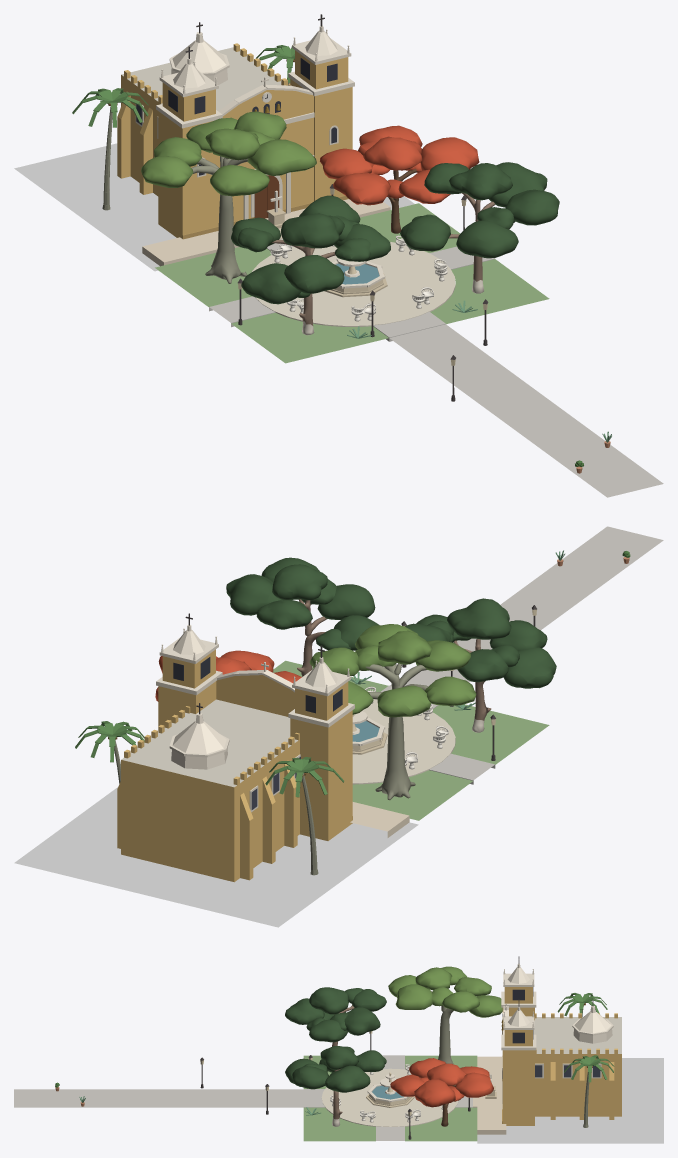
Rendered from barrio_plaza.glb.
3 renders of one model, top to bottom at view 1: azimuth 30°, elevation 25°; view 2: azimuth 150°, elevation 25°; view 3: azimuth 270°, elevation 25°, orthographic. The views are drawn at different scales.
Parts seen in each view (by area): view 1: plaza_fachadas, plaza_laurel_copa, plaza_banqueta, plaza_pasto, plaza_ceiba_copa, plaza_pasto_c, plaza_flamboyan_copa, plaza_pasta, plaza_cantera, plaza_palma_copa, plaza_herreria; view 2: plaza_fachadas, plaza_pasto_c, plaza_laurel_copa, plaza_banqueta, plaza_ceiba_copa, plaza_pasto, plaza_pasta, plaza_palma_copa, plaza_flamboyan_copa, plaza_cantera; view 3: plaza_fachadas, plaza_laurel_copa, plaza_pasto_c, plaza_banqueta, plaza_pasto, plaza_ceiba_copa, plaza_flamboyan_copa, plaza_pasta, plaza_cantera, plaza_palma_copa, plaza_herreria.
Part boxes in pixels (x1,y1,x2,y2): plaza_fachadas: (102, 25, 611, 473); plaza_laurel_copa: (231, 162, 559, 304); plaza_banqueta: (209, 239, 663, 497); plaza_pasto: (155, 203, 549, 363); plaza_ceiba_copa: (141, 111, 316, 196); plaza_pasto_c: (14, 143, 414, 271); plaza_flamboyan_copa: (320, 125, 479, 205); plaza_pasta: (252, 242, 455, 326); plaza_cantera: (142, 199, 390, 266); plaza_palma_copa: (72, 45, 294, 127); plaza_herreria: (185, 14, 488, 401); plaza_fachadas: (108, 550, 630, 882); plaza_pasto_c: (14, 787, 418, 927); plaza_laurel_copa: (226, 557, 556, 688); plaza_banqueta: (381, 526, 663, 784); plaza_ceiba_copa: (309, 624, 476, 717); plaza_pasto: (273, 660, 549, 820); plaza_pasta: (352, 699, 455, 784); plaza_palma_copa: (75, 721, 344, 797); plaza_flamboyan_copa: (155, 650, 301, 701); plaza_cantera: (350, 802, 409, 837); plaza_fachadas: (55, 963, 621, 1127); plaza_laurel_copa: (285, 987, 386, 1092); plaza_pasto_c: (477, 1058, 663, 1143); plaza_banqueta: (14, 1055, 472, 1140); plaza_pasto: (303, 1055, 477, 1141); plaza_ceiba_copa: (388, 966, 502, 1017); plaza_flamboyan_copa: (390, 1058, 493, 1107); plaza_pasta: (321, 1068, 458, 1126); plaza_cantera: (473, 1056, 506, 1134); plaza_palma_copa: (557, 993, 614, 1082); plaza_herreria: (200, 956, 593, 1139).
Size of the model in its own units: 34.34 by 19.48 by 89.8.
